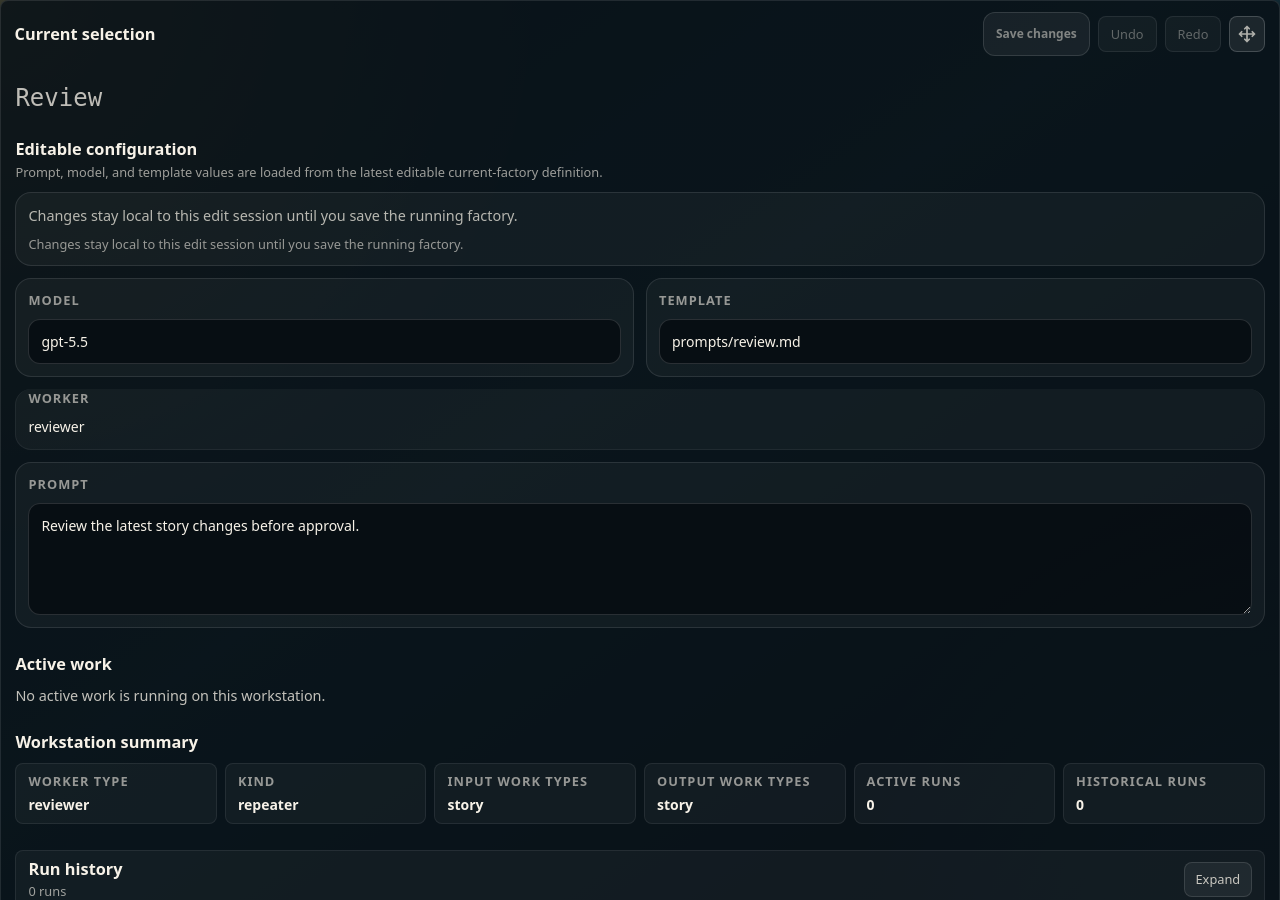
CurrentSelectionWidget workstation save flow › confirms before saving and refreshes the form to the saved workstation values
The width and height of the screenshot is (1280, 900).
Replace the text in the text box labelled "Prompt" with "Review the diff and verify browser behavior.": (640, 559) [28,503,1252,615]
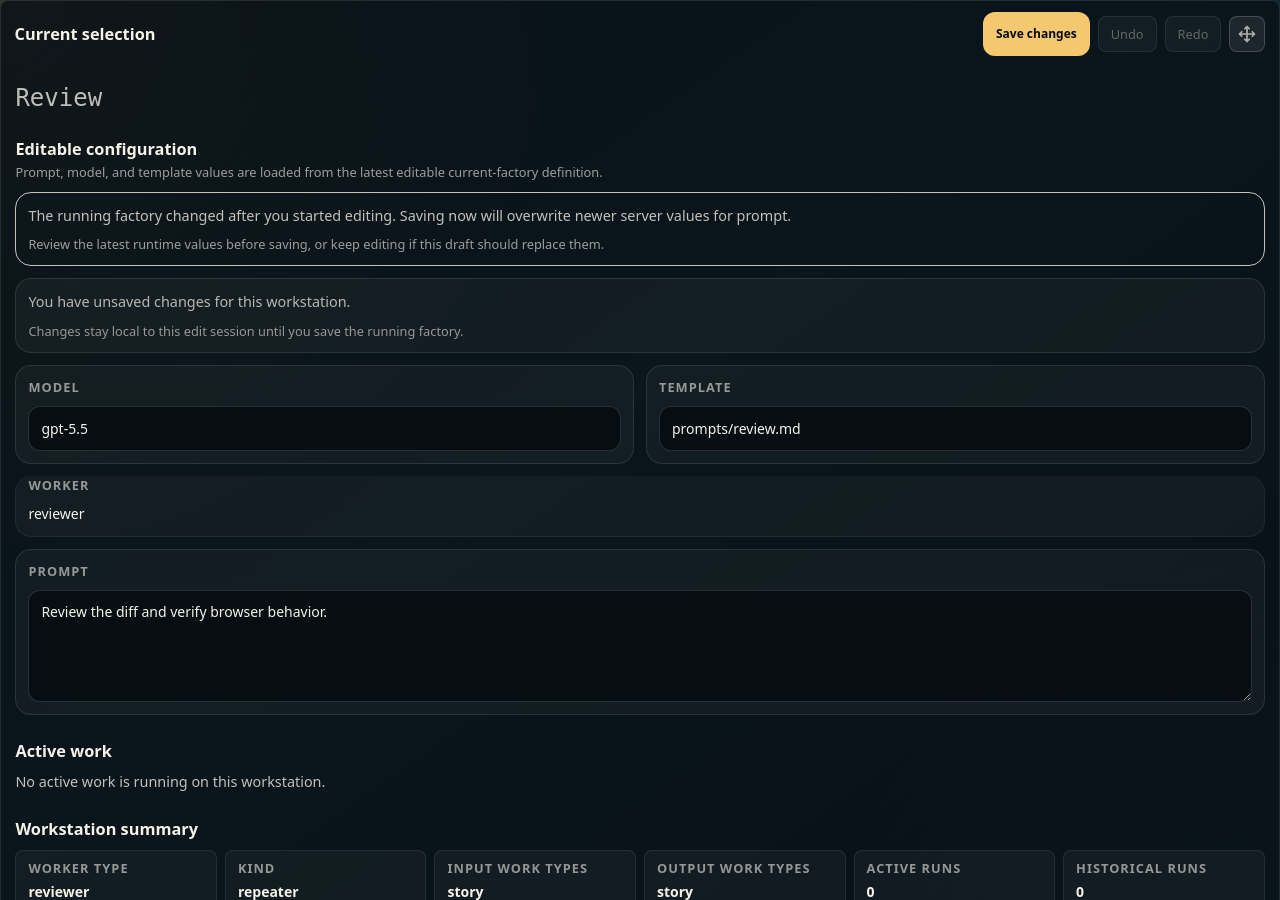
Click the button "Save changes": click(1036, 34) [983,12,1090,56]
(page scrolled)
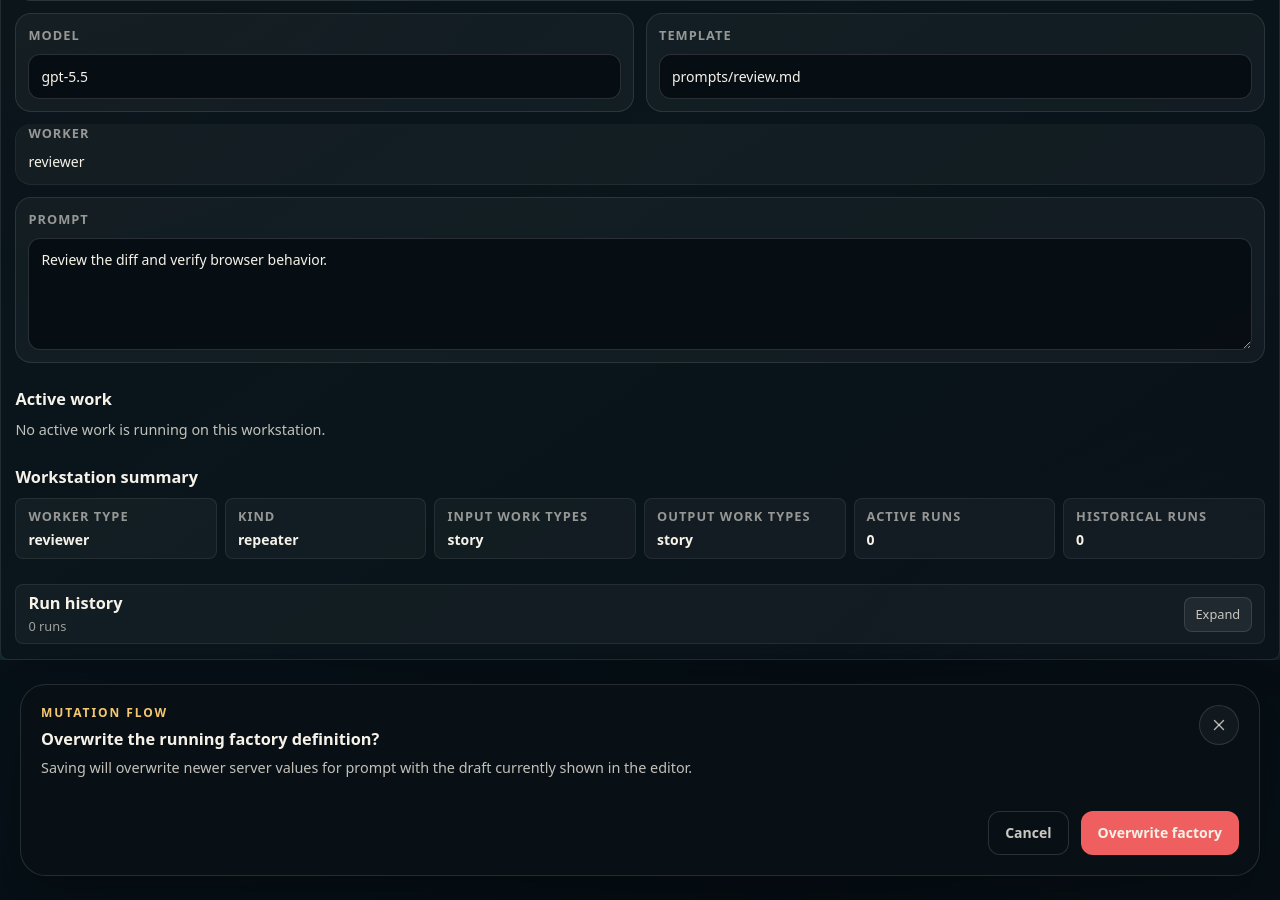
Result: the heading "Overwrite the running factory definition?" is shown at [41,728,379,750]
Click the button "Overwrite factory": click(1160, 833) [1080,811,1239,855]
(page scrolled)
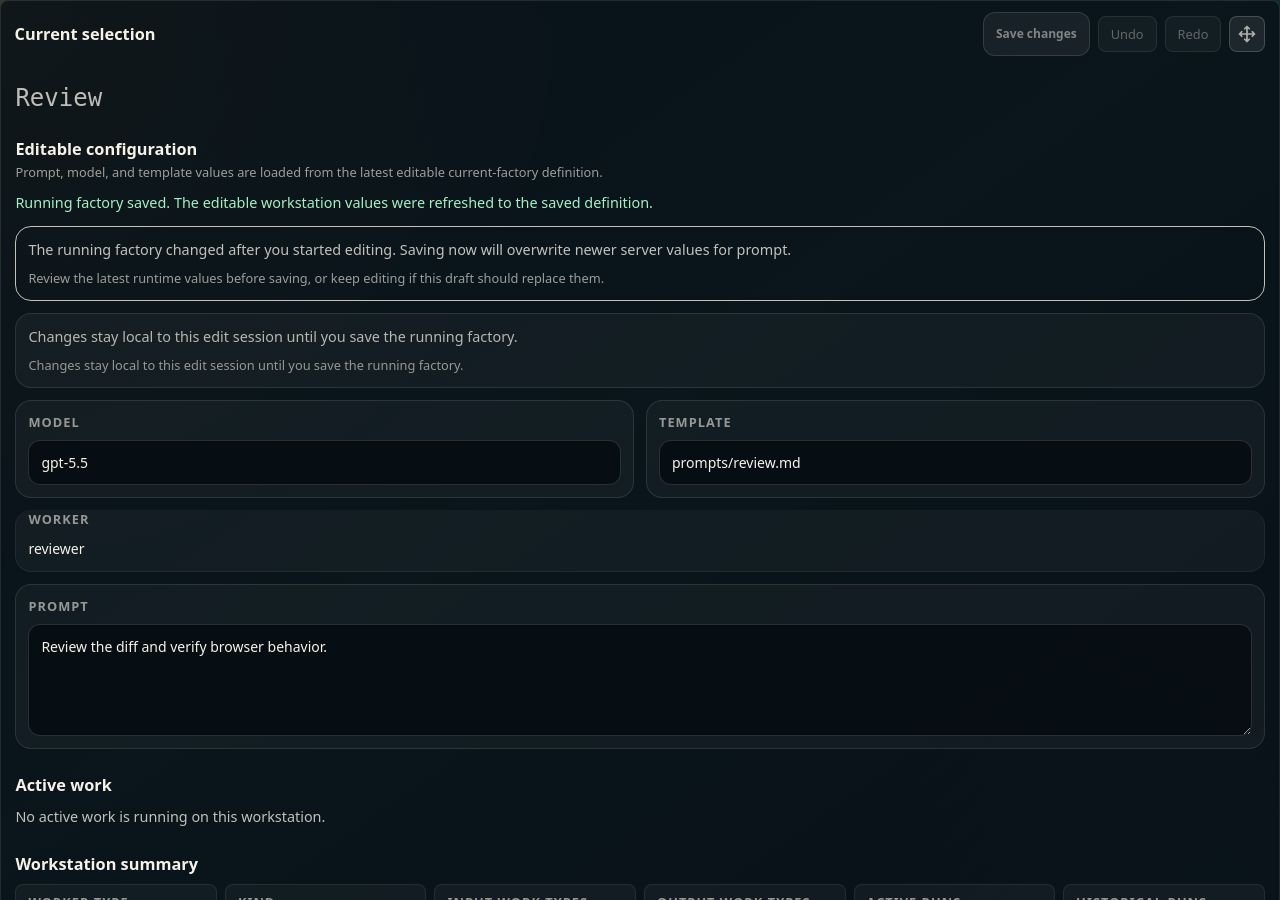
Result: the text "Running factory saved. The editable workstation values were refreshed to the saved definition." is shown at [15,193,653,212]
Result: the button "Save changes" is disabled at [983,12,1090,56]
